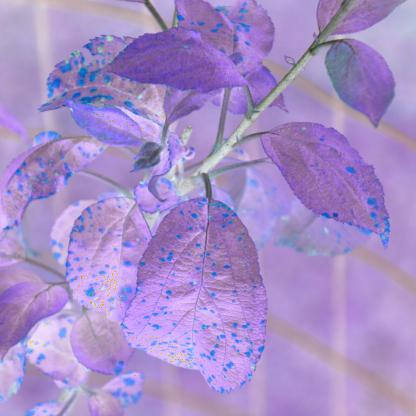Apple rust leaf: (120, 186, 280, 410), (254, 116, 399, 258), (70, 184, 161, 351), (37, 35, 172, 137), (2, 130, 107, 227), (170, 0, 284, 87)
